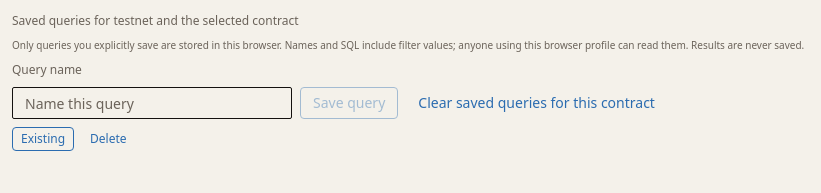
Scenario: Saved queries controls › preserves the visible list and draft when a storage read fails
The image size is (821, 193).
Type "Draft" into the field labelled "Query name".
click(152, 103); type("Draft")  # box top-left (12, 87), bottom-right (292, 119)
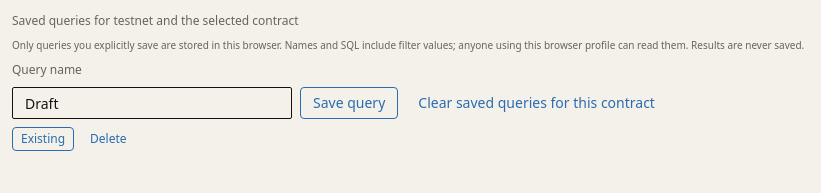
Click the button "Save query".
click(349, 103)  # box top-left (300, 87), bottom-right (398, 119)
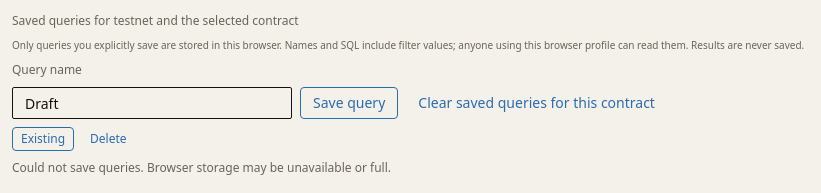
Expected: the button "Existing" is shown, top-left (12, 127), bottom-right (74, 151)
Result: the message shows "Could not save queries." at top-left (12, 159), bottom-right (391, 176)
